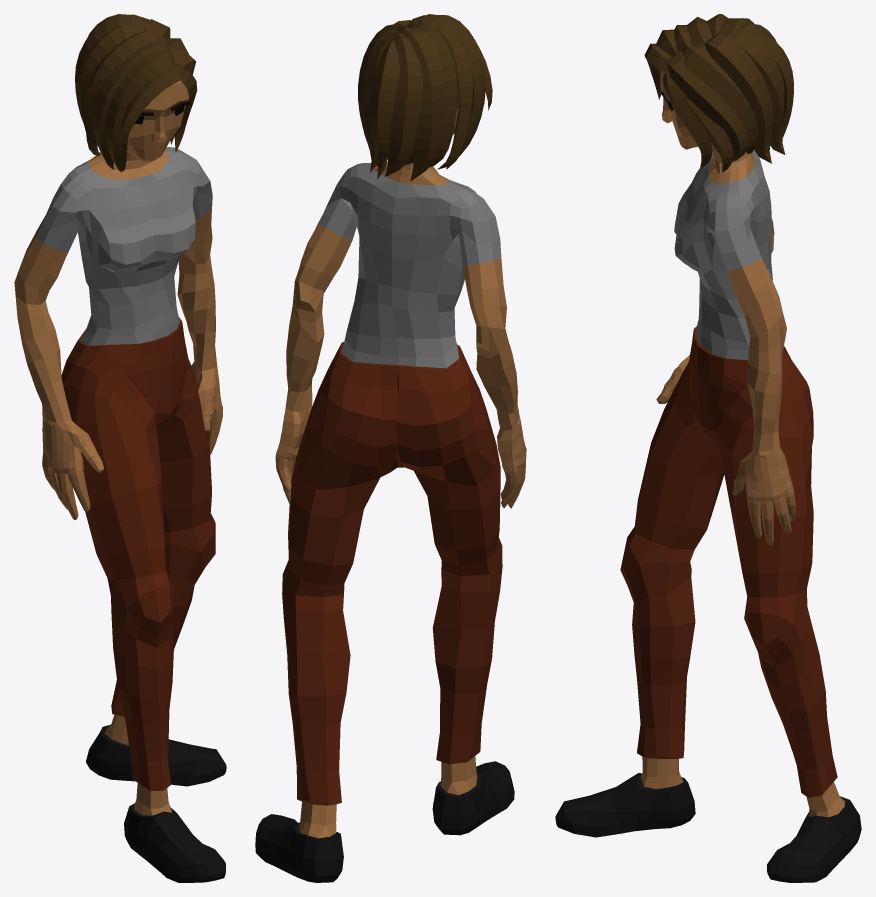
3 renders of one model, left to right at view 1: azimuth 30°, elevation 25°; view 2: azimuth 150°, elevation 25°; view 3: azimuth 270°, elevation 25°, orthographic. The views are drawn at different scales.
Visible parts, largest first — view 1: Casual_Body; view 2: Casual_Body; view 3: Casual_Body.
Part boxes in pixels (<box>): Casual_Body: <box>14,14,226,882</box>; Casual_Body: <box>255,14,526,882</box>; Casual_Body: <box>555,14,861,882</box>.
Size of the model in its own units: 0.5242 by 1.81 by 0.6195.
